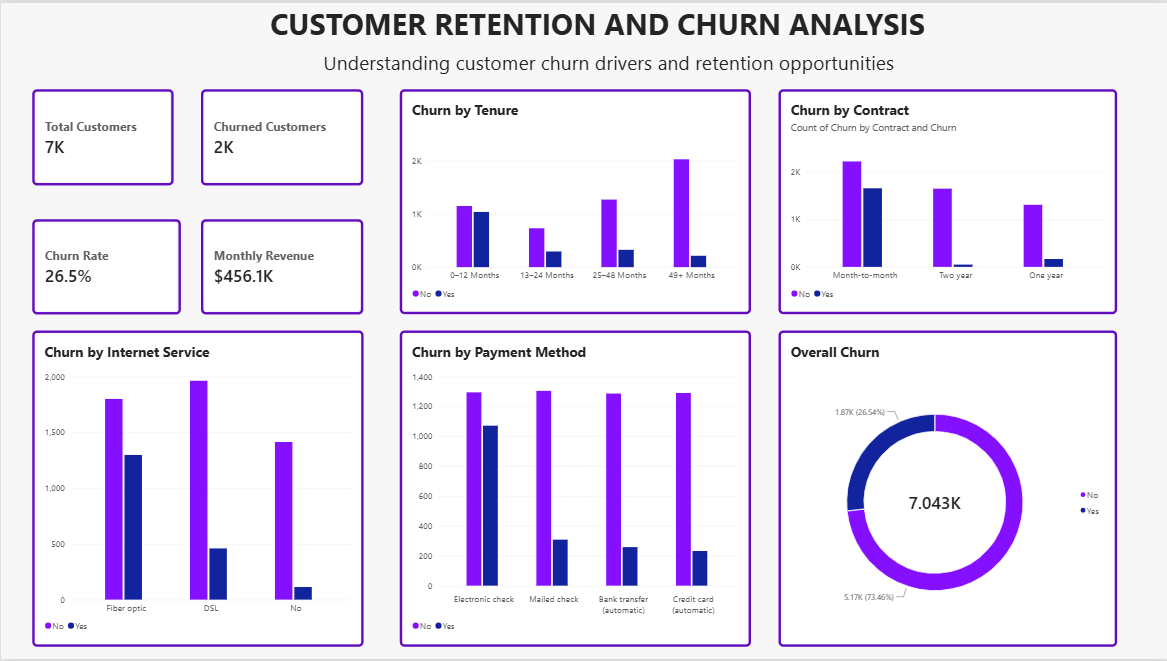

This screenshot's page, from the dashboard's own definition file:
{"tool":"powerbi","page":{"name":"Page 1","canvas":[1920,1080],"ordinal":0},"visuals":[{"type":"cardVisual","fields":{"Data":["WA_Fn-UseC_-Telco-Customer-Churn.Total Customers"]},"box":[51.5,142,232.6,158.5],"z":0},{"type":"cardVisual","fields":{"Data":["WA_Fn-UseC_-Telco-Customer-Churn.Churned Customers"]},"box":[329.3,142,267.6,158.5],"z":1},{"type":"cardVisual","fields":{"Data":["WA_Fn-UseC_-Telco-Customer-Churn.Churn Rate"]},"box":[51.5,356.1,244.9,156.4],"z":2},{"type":"clusteredColumnChart","title":"Churn by Contract","fields":{"Category":["WA_Fn-UseC_-Telco-Customer-Churn.Contract"],"Series":["WA_Fn-UseC_-Telco-Customer-Churn.Churn"],"Y":["CountNonNull(WA_Fn-UseC_-Telco-Customer-Churn.Churn)"]},"box":[1280.3,142,557.8,370.5],"z":3},{"type":"cardVisual","fields":{"Data":["WA_Fn-UseC_-Telco-Customer-Churn.Monthly Revenue"]},"box":[329.3,356.1,267.6,156.4],"z":4},{"type":"clusteredColumnChart","title":"Churn by Internet Service","fields":{"Category":["WA_Fn-UseC_-Telco-Customer-Churn.InternetService"],"Series":["WA_Fn-UseC_-Telco-Customer-Churn.Churn"],"Y":["CountNonNull(WA_Fn-UseC_-Telco-Customer-Churn.Churn)"]},"box":[51.5,539.3,545.5,520.8],"z":5},{"type":"clusteredColumnChart","title":"Churn by Payment Method","fields":{"Category":["WA_Fn-UseC_-Telco-Customer-Churn.PaymentMethod"],"Series":["WA_Fn-UseC_-Telco-Customer-Churn.Churn"],"Y":["CountNonNull(WA_Fn-UseC_-Telco-Customer-Churn.Churn)"]},"box":[656.6,539.3,578.4,520.8],"z":6},{"type":"clusteredColumnChart","title":"Churn by Tenure","fields":{"Category":["WA_Fn-UseC_-Telco-Customer-Churn.Tenure Group"],"Series":["WA_Fn-UseC_-Telco-Customer-Churn.Churn"],"Y":["CountNonNull(WA_Fn-UseC_-Telco-Customer-Churn.Churn)"]},"box":[656.6,142,578.4,370.5],"z":7},{"type":"donutChart","title":"Overall Churn","fields":{"Category":["WA_Fn-UseC_-Telco-Customer-Churn.Churn"],"Y":["CountNonNull(WA_Fn-UseC_-Telco-Customer-Churn.customerID)"]},"box":[1280.3,539.3,557.8,520.8],"z":8},{"type":"textbox","box":[308.7,0,1477.9,127.6],"z":9}]}

Visuals, with their boxes in screenshot pixels (x1, y1, x2, y2), scaled from the page's 1920x1080 canvas onto the 1167x661 screenshot:
cardVisual - WA_Fn-UseC_-Telco-Customer-Churn.Total Customers: {"x1": 31, "y1": 87, "x2": 173, "y2": 184}
cardVisual - WA_Fn-UseC_-Telco-Customer-Churn.Churned Customers: {"x1": 200, "y1": 87, "x2": 363, "y2": 184}
cardVisual - WA_Fn-UseC_-Telco-Customer-Churn.Churn Rate: {"x1": 31, "y1": 218, "x2": 180, "y2": 314}
"Churn by Contract" clusteredColumnChart: {"x1": 778, "y1": 87, "x2": 1117, "y2": 314}
cardVisual - WA_Fn-UseC_-Telco-Customer-Churn.Monthly Revenue: {"x1": 200, "y1": 218, "x2": 363, "y2": 314}
"Churn by Internet Service" clusteredColumnChart: {"x1": 31, "y1": 330, "x2": 363, "y2": 649}
"Churn by Payment Method" clusteredColumnChart: {"x1": 399, "y1": 330, "x2": 751, "y2": 649}
"Churn by Tenure" clusteredColumnChart: {"x1": 399, "y1": 87, "x2": 751, "y2": 314}
"Overall Churn" donutChart: {"x1": 778, "y1": 330, "x2": 1117, "y2": 649}
textbox: {"x1": 188, "y1": 0, "x2": 1086, "y2": 78}
